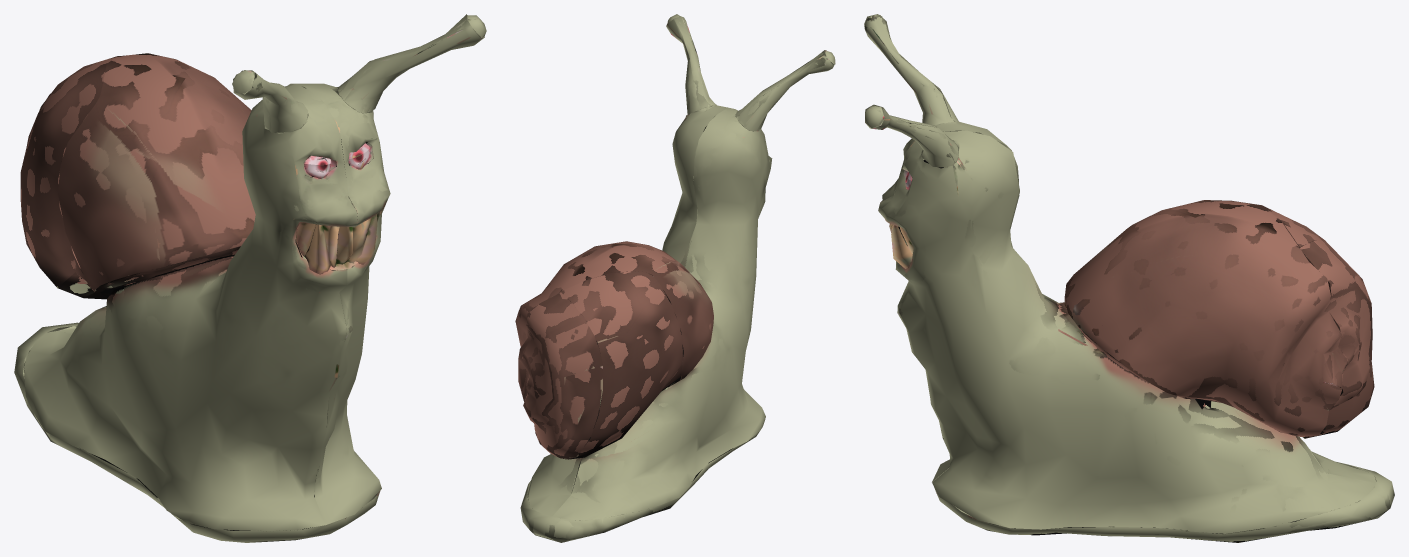
Rendered from low_snail.glb.
3 views of the same model, side by side, from view 1: azimuth 30°, elevation 25°; view 2: azimuth 150°, elevation 25°; view 3: azimuth 270°, elevation 25° (orthographic). The views are drawn at different scales.
Parts seen in each view (by area): view 1: low; view 2: low; view 3: low.
Boxes of the visible parts, box(x1,y1,x2,y2) form: low: box(14, 14, 486, 542); low: box(515, 14, 835, 542); low: box(864, 14, 1394, 542).
Bounding box in the file's own units: 1.66 × 3.42 × 3.66.
1 material, 1 textured.
